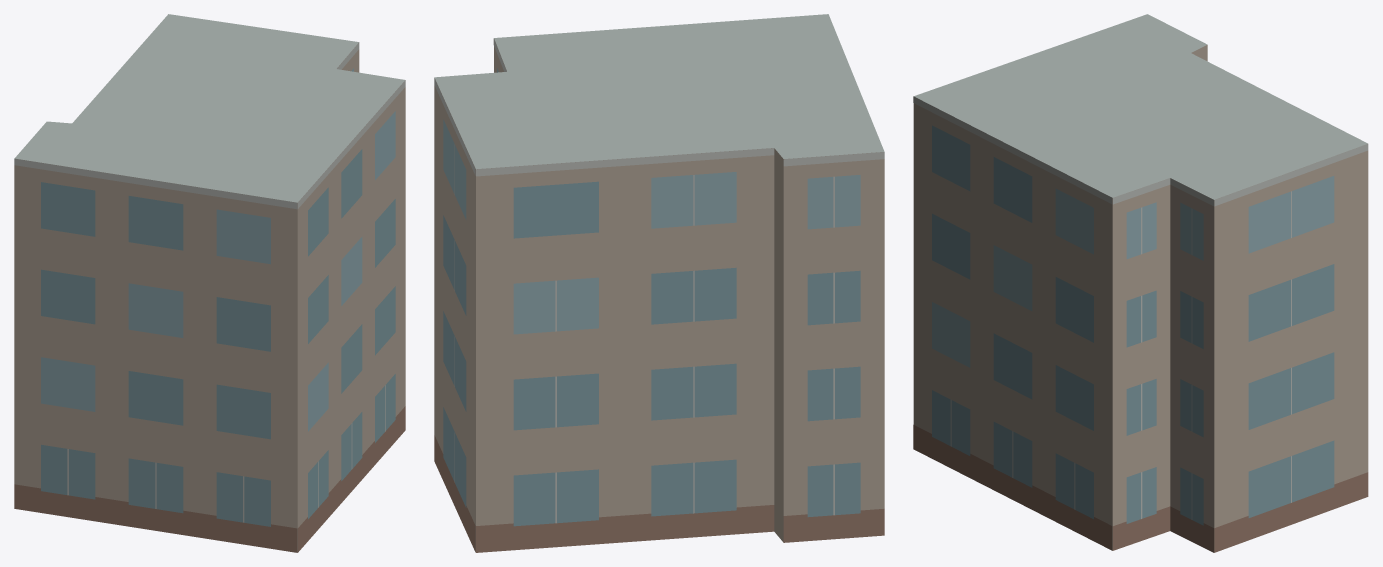
Rendered from survey-upis-32635584.glb.
The picture shows the model from 3 angles, left to right: view 1: azimuth 30°, elevation 25°; view 2: azimuth 150°, elevation 25°; view 3: azimuth 270°, elevation 25°; orthographic projection. The views are drawn at different scales.
Parts seen in each view (by area): view 1: survey-upis-32635584.tmp; view 2: survey-upis-32635584.tmp; view 3: survey-upis-32635584.tmp.
Boxes of the visible parts, <box> form: survey-upis-32635584.tmp: <box>14,14,405,552</box>; survey-upis-32635584.tmp: <box>434,14,884,552</box>; survey-upis-32635584.tmp: <box>913,14,1368,552</box>.
Bounding box in the file's own units: 14.46 × 12.8 × 14.95.
